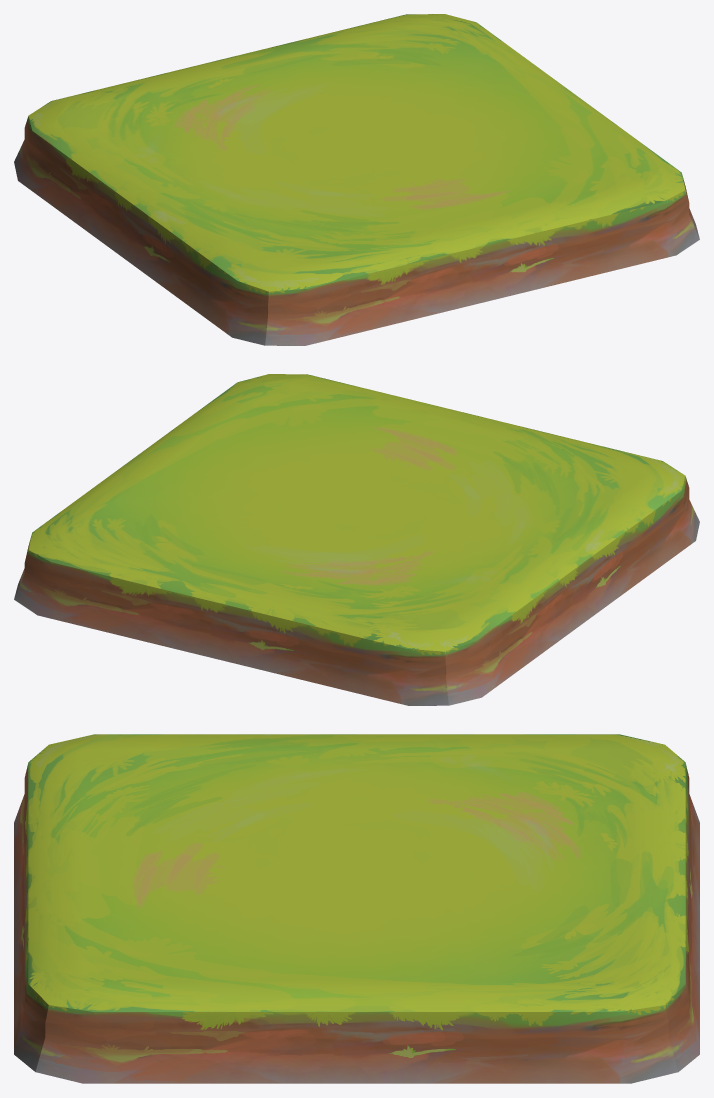
The model's file is Terrain.fbx.
3 views of the same model, one above another, from view 1: azimuth 30°, elevation 25°; view 2: azimuth 150°, elevation 25°; view 3: azimuth 270°, elevation 25° (orthographic). The views are drawn at different scales.
Parts seen in each view (by area): view 1: Ground; view 2: Ground; view 3: Ground.
Part boxes in pixels (box(x1,y1,x2,y2)): Ground: box(14, 14, 699, 345); Ground: box(14, 374, 699, 705); Ground: box(14, 734, 699, 1083).
Size of the model in its own units: 3128 by 368 by 3128.
Materials: 1 (1 with a texture image).
